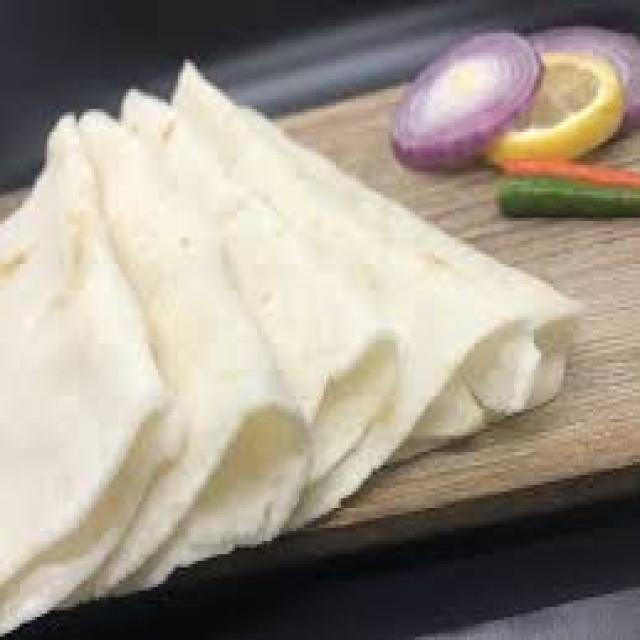RICE BHAKRI: (0, 63, 578, 630)
